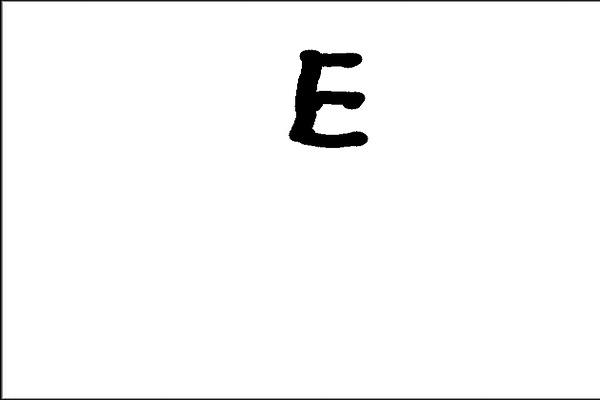E: (285, 46, 373, 153)
